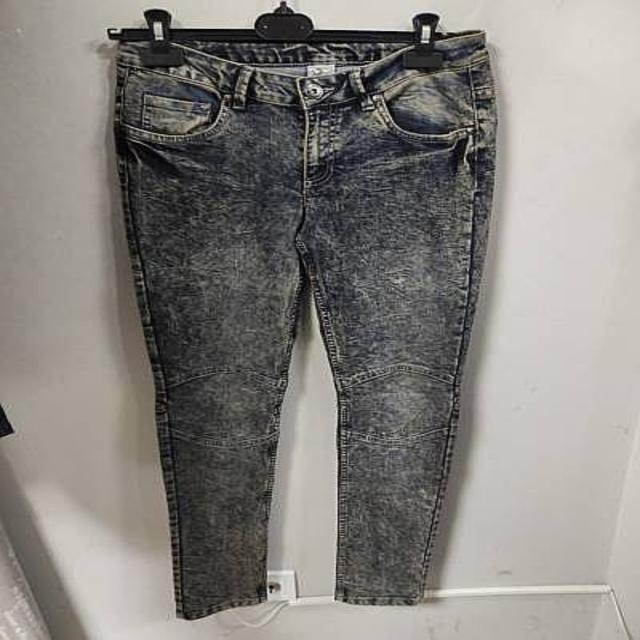TROUSER: (86, 20, 514, 626)
